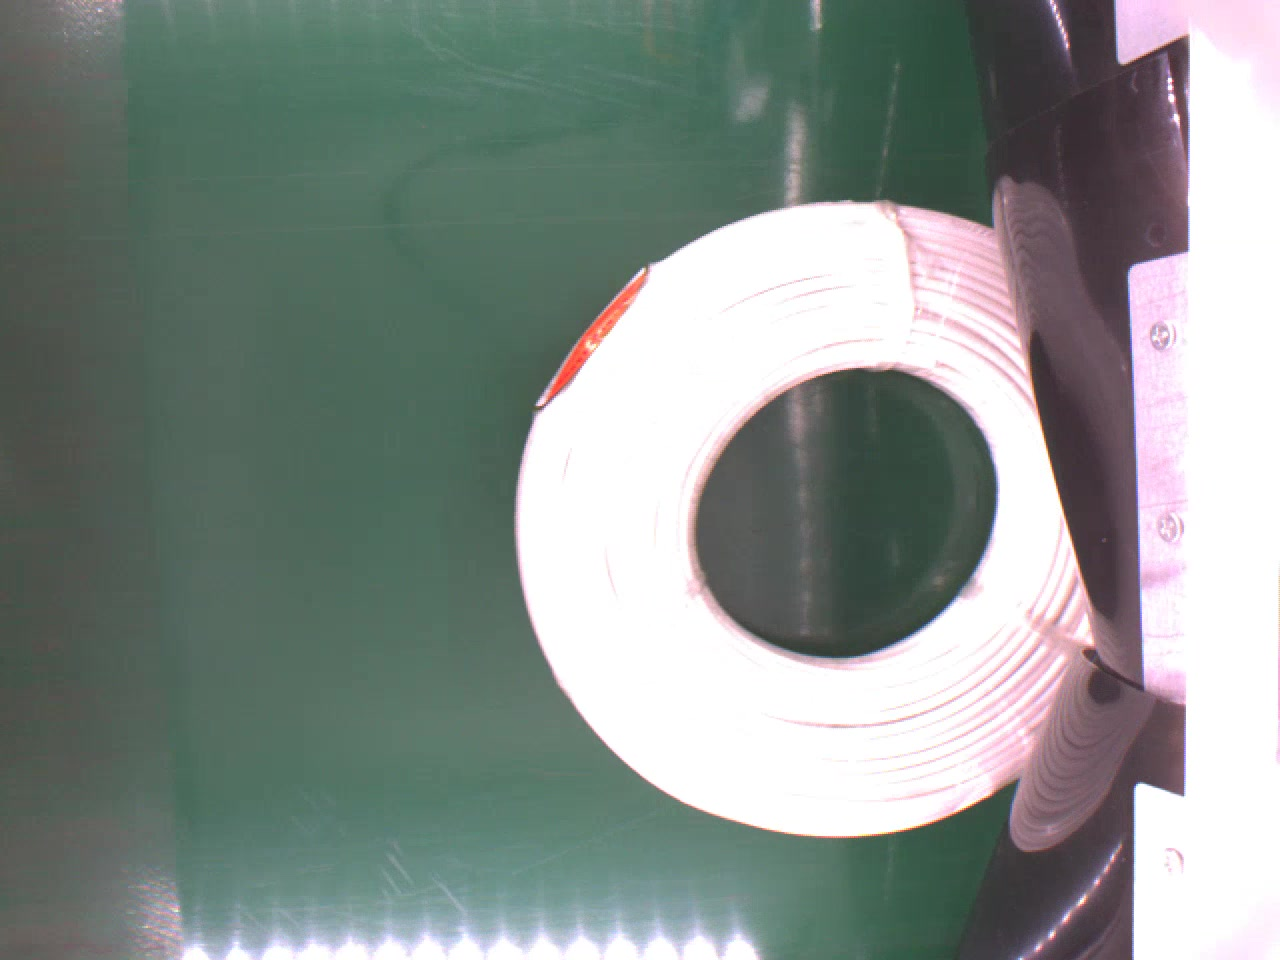white: (513, 194, 1094, 843)
